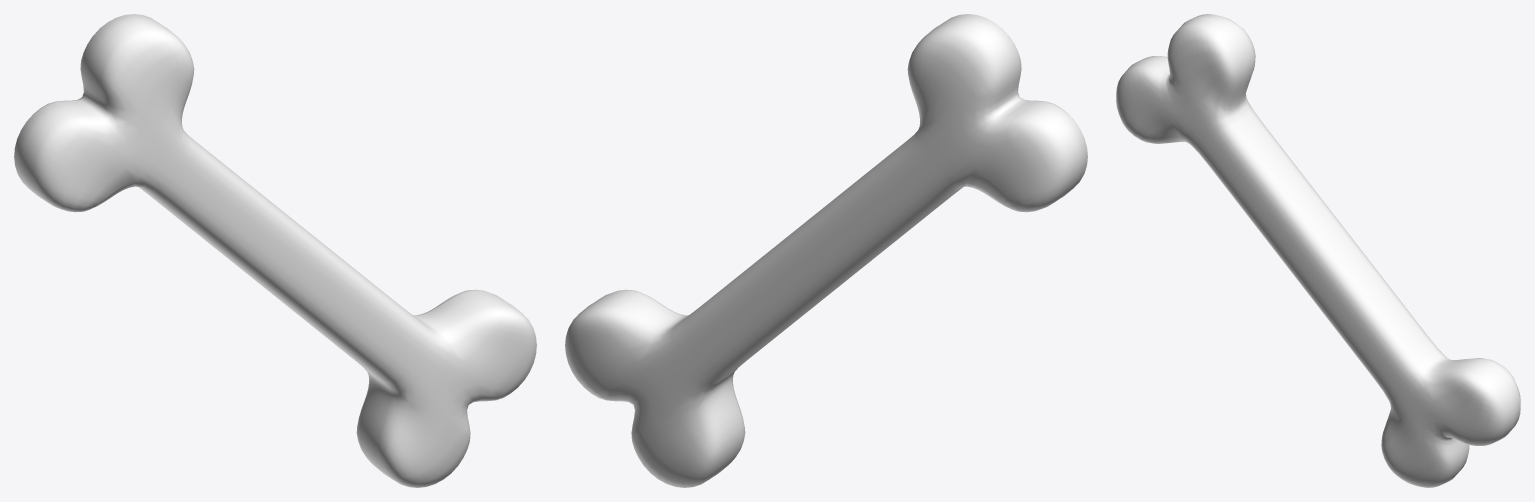
Rendered from bone.glb.
3 views of the same model, side by side, from view 1: azimuth 30°, elevation 25°; view 2: azimuth 150°, elevation 25°; view 3: azimuth 330°, elevation 25° (orthographic). The views are drawn at different scales.
Parts seen in each view (by area): view 1: Circle.283; view 2: Circle.283; view 3: Circle.283.
Part boxes in pixels (x1,y1,x2,y2): Circle.283: [14, 14, 536, 487]; Circle.283: [565, 14, 1087, 487]; Circle.283: [1116, 14, 1520, 487].
Bounding box in the file's own units: 2.41 × 2.41 × 0.3369.
Materials: 1 (1 with a texture image).
